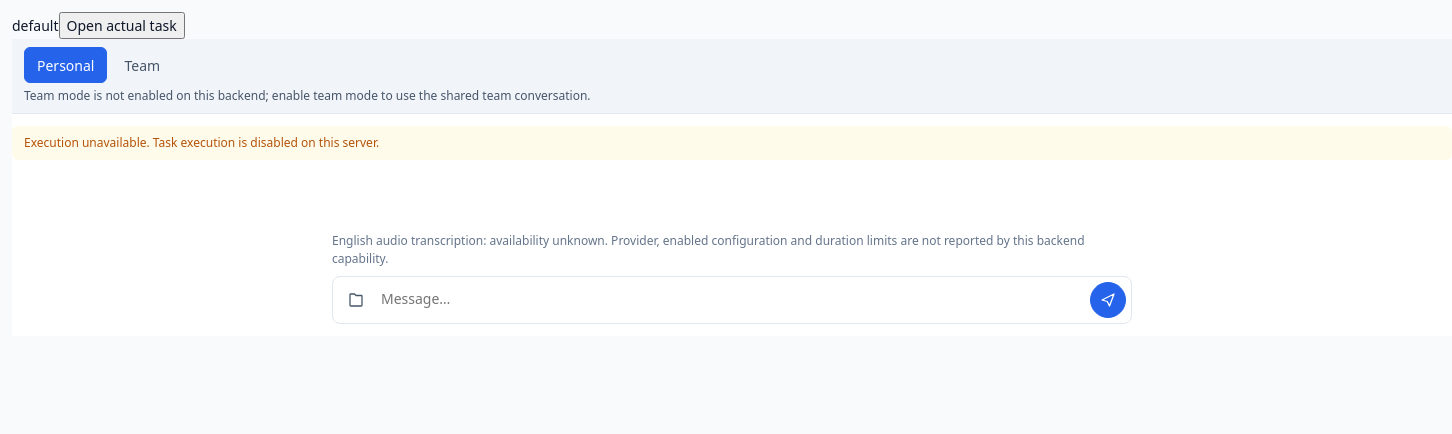
LG057 single-user preservation › creates a Task from legacy global chat without switching to a disabled Team channel
The width and height of the screenshot is (1452, 434).
Type "generate a file" into the text box named "Message for Global".
click(732, 300); type("generate a file")  # box [332,276,1132,324]
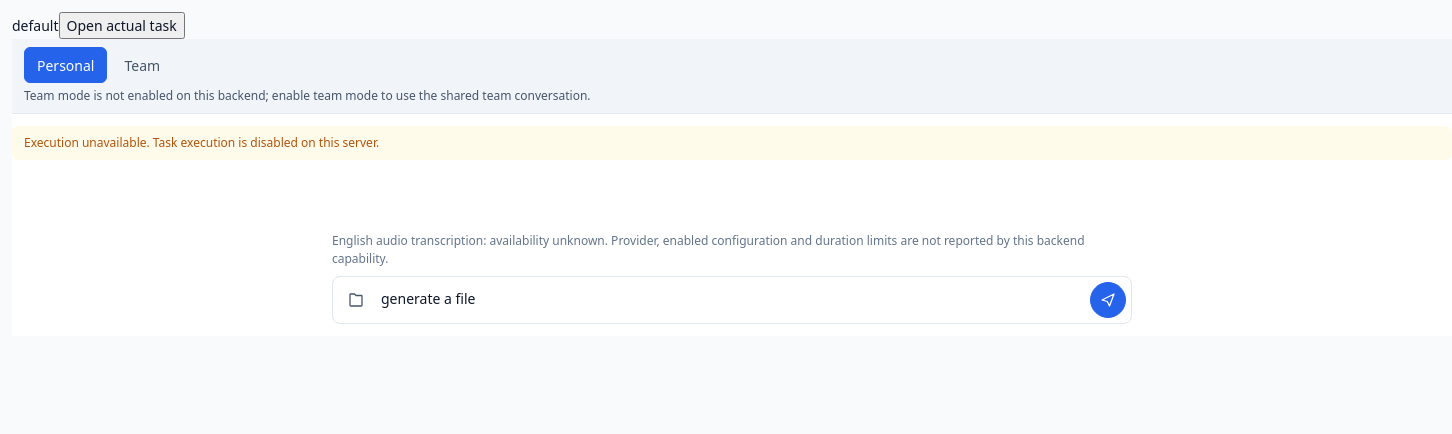
Press Enter in the text box named "Message for Global", box [332,276,1132,324]
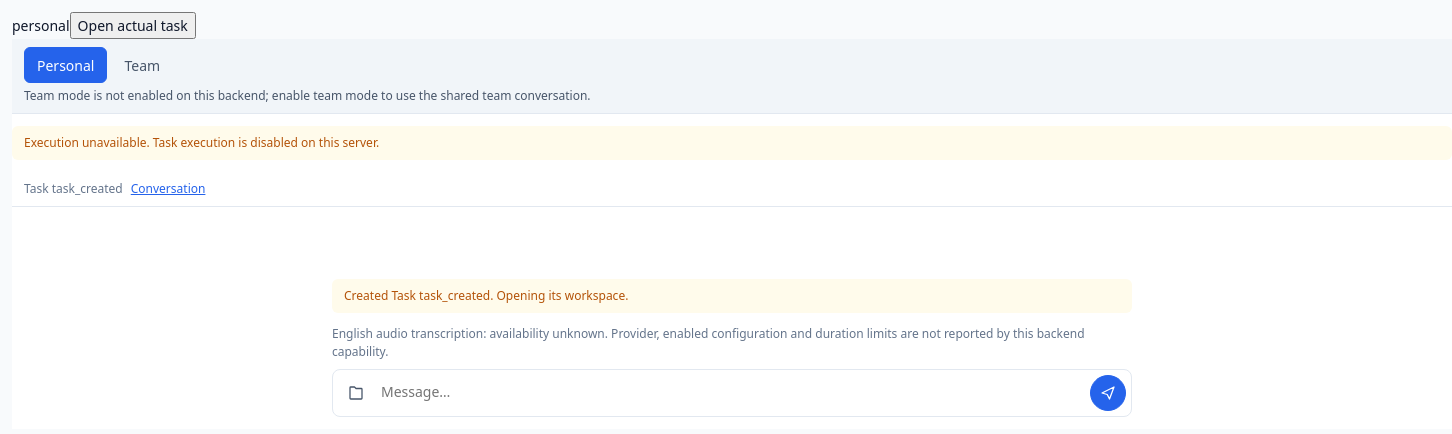
expect the text box named "Message for task_created" is shown: met, box [332,369,1132,417]
expect the text named "Route channel" reads "personal": met, box [12,16,70,35]
